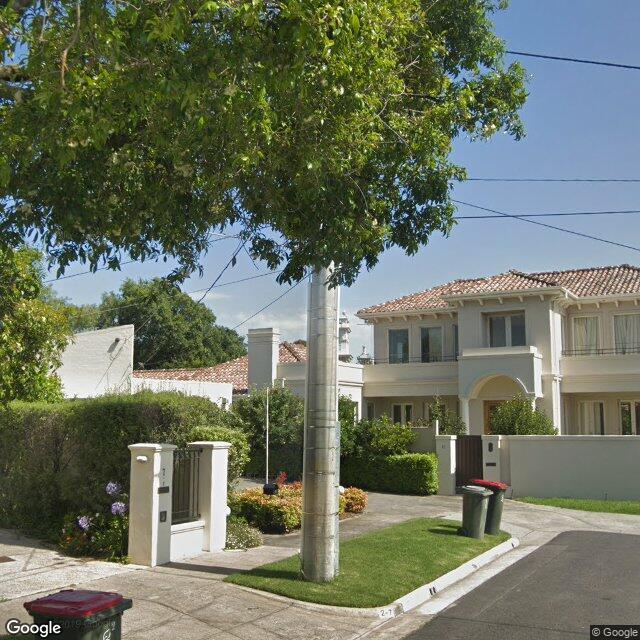concrete-pole: (298, 262, 338, 582)
